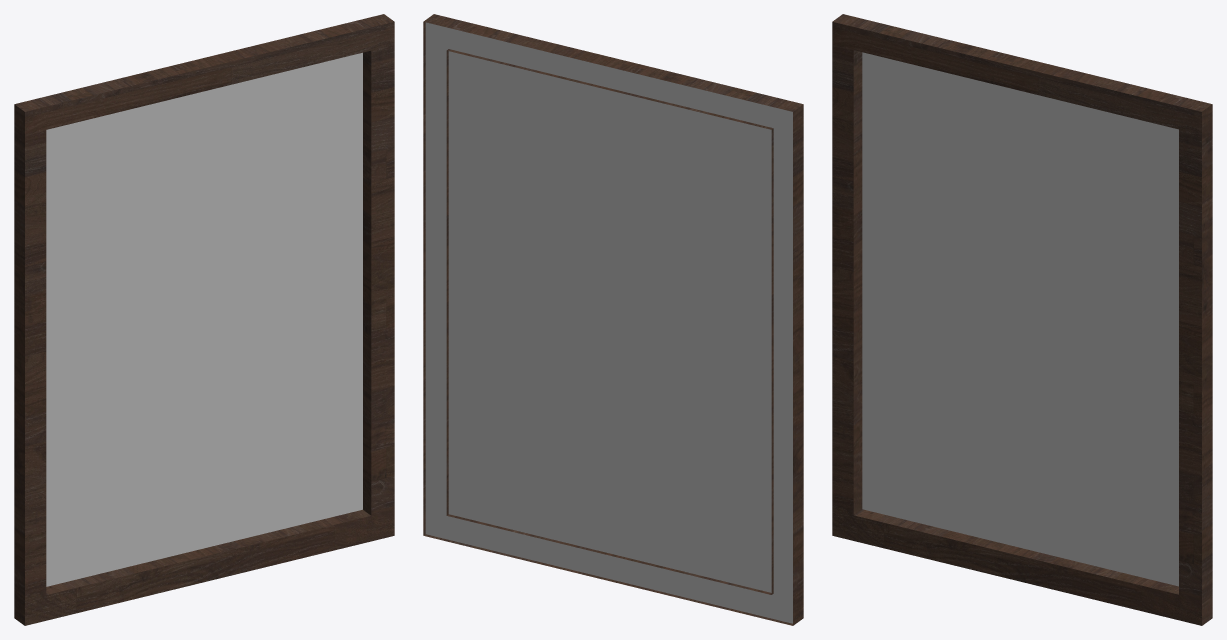
File: Iglesia-Marco.fbx
3 renders of one model, left to right at view 1: azimuth 30°, elevation 25°; view 2: azimuth 150°, elevation 25°; view 3: azimuth 330°, elevation 25°, orthographic.
Parts seen in each view (by area): view 1: FondoMarco, Marco; view 2: FondoMarco, Marco; view 3: FondoMarco, Marco.
Part boxes in pixels (x1,y1,x2,y2): FondoMarco: [46, 52, 362, 586]; Marco: [14, 14, 394, 625]; FondoMarco: [425, 22, 792, 623]; Marco: [423, 14, 803, 625]; FondoMarco: [862, 52, 1178, 586]; Marco: [832, 14, 1212, 625].
Size of the model in its own units: 2.39 by 3.18 by 0.1187.
